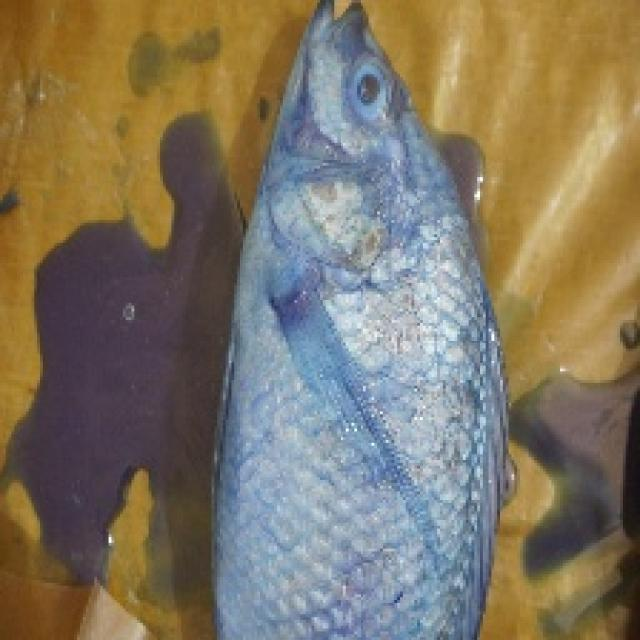Non-Fresh: (225, 5, 541, 640)
